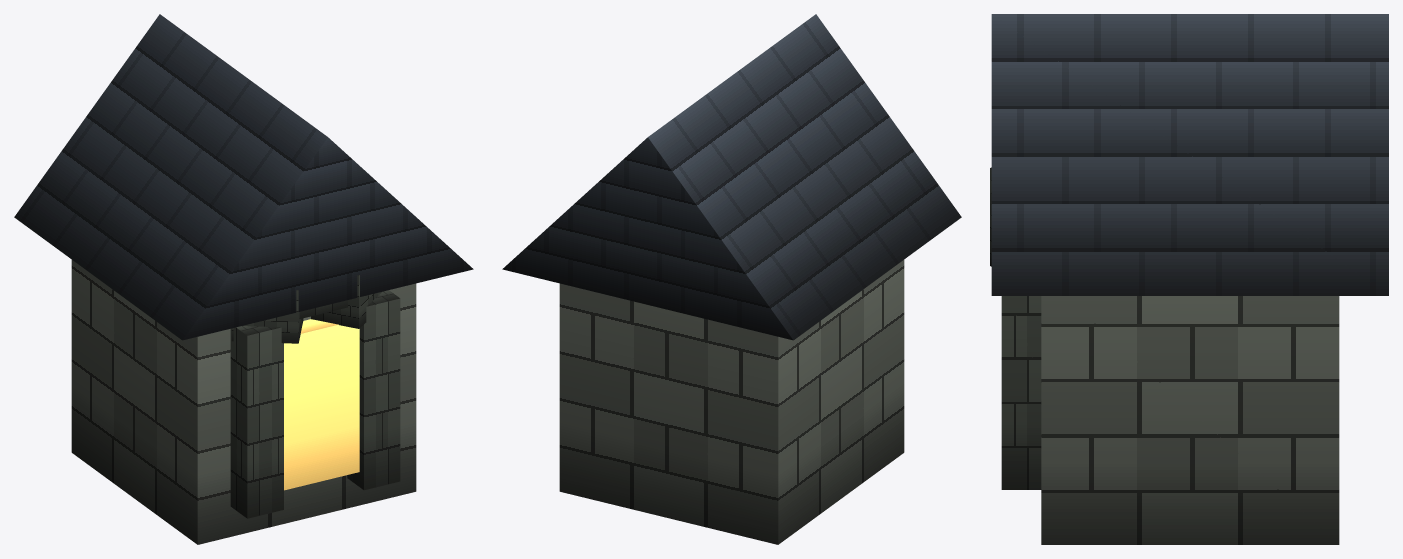
Rendered from dormer.gltf.
The picture shows the model from 3 angles, left to right: view 1: azimuth 30°, elevation 25°; view 2: azimuth 150°, elevation 25°; view 3: azimuth 270°, elevation 25°; orthographic projection. The views are drawn at different scales.
Parts seen in each view (by area): view 1: dormer; view 2: dormer; view 3: dormer.
Part boxes in pixels (left/top/right/bottom): dormer: left=14, top=14, right=473, bottom=544; dormer: left=502, top=14, right=961, bottom=544; dormer: left=990, top=14, right=1388, bottom=544.
Size of the model in its own units: 0.4 by 0.52 by 0.4016.
1 material, 1 textured.
